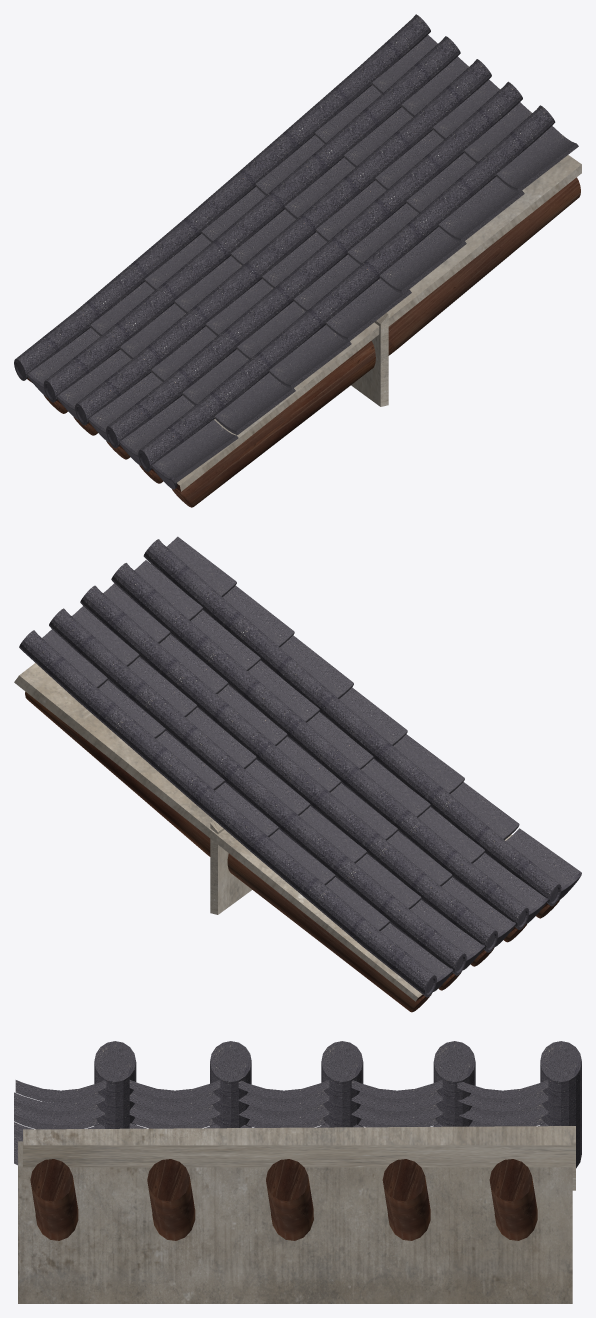
File: SM_Roof_52.fbx
The picture shows the model from 3 angles, top to bottom: view 1: azimuth 30°, elevation 25°; view 2: azimuth 150°, elevation 25°; view 3: azimuth 270°, elevation 25°; orthographic projection. The views are drawn at different scales.
Visible parts, largest first — view 1: SM_Roof_52; view 2: SM_Roof_52; view 3: SM_Roof_52.
Boxes of the visible parts, bbox=[...] form: SM_Roof_52: bbox=[14, 14, 581, 507]; SM_Roof_52: bbox=[14, 536, 581, 1012]; SM_Roof_52: bbox=[14, 1041, 581, 1303].
Bounding box in the file's own units: 418 × 276 × 286.
Materials: 3 (3 with a texture image).
